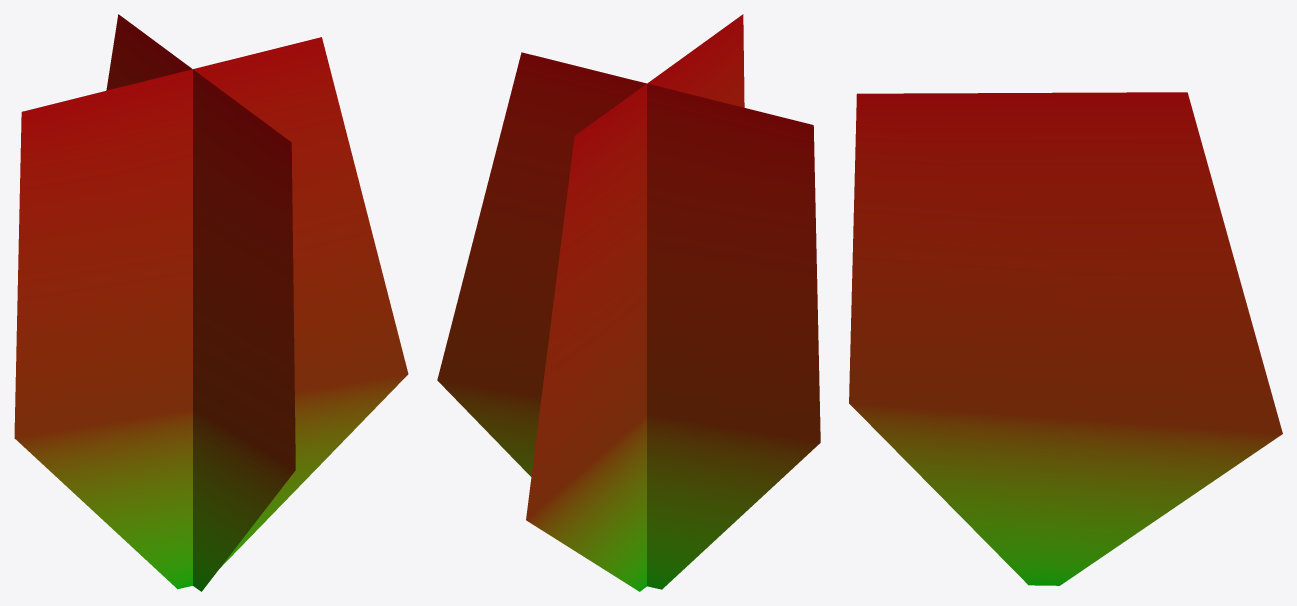
The model's file is Bird Of Paradise_LOD5_Var12_wfypeifha.fbx.
3 renders of one model, left to right at view 1: azimuth 30°, elevation 25°; view 2: azimuth 150°, elevation 25°; view 3: azimuth 270°, elevation 25°, orthographic. The views are drawn at different scales.
Visible parts, largest first — view 1: _w450_Var12_LOD5; view 2: _w450_Var12_LOD5; view 3: _w450_Var12_LOD5.
Part boxes in pixels (bbox=[...]): _w450_Var12_LOD5: bbox=[14, 14, 408, 591]; _w450_Var12_LOD5: bbox=[437, 14, 820, 591]; _w450_Var12_LOD5: bbox=[849, 92, 1282, 585].
Bounding box in the file's own units: 130 × 164 × 130.
